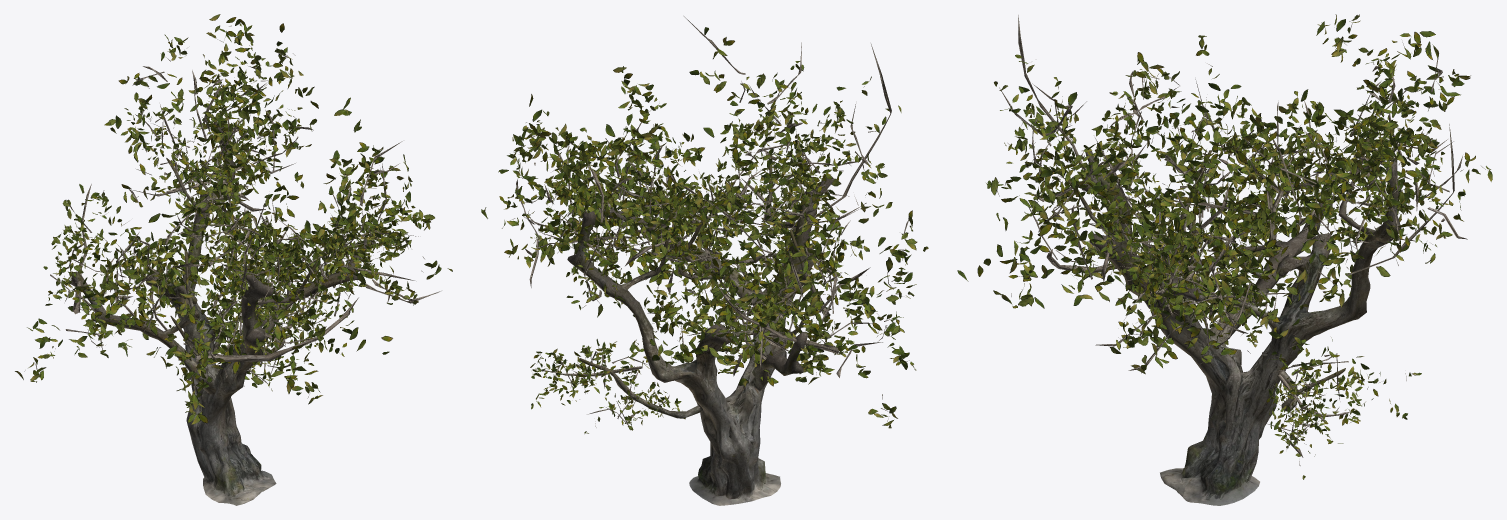
Rendered from island_tree_01.glb.
The picture shows the model from 3 angles, left to right: view 1: azimuth 30°, elevation 25°; view 2: azimuth 150°, elevation 25°; view 3: azimuth 270°, elevation 25°; orthographic projection. The views are drawn at different scales.
Visible parts, largest first — view 1: island_tree_01_LOD0.002, island_tree_01_LOD0.001, island_tree_01_LOD0; view 2: island_tree_01_LOD0.002, island_tree_01_LOD0.001, island_tree_01_LOD0; view 3: island_tree_01_LOD0.002, island_tree_01_LOD0.001, island_tree_01_LOD0.
Part boxes in pixels (x1,y1,x2,y2): island_tree_01_LOD0.002: (15, 14, 452, 424); island_tree_01_LOD0.001: (70, 122, 376, 505); island_tree_01_LOD0: (24, 25, 440, 412); island_tree_01_LOD0.002: (481, 27, 928, 433); island_tree_01_LOD0.001: (567, 154, 834, 505); island_tree_01_LOD0: (510, 16, 909, 430); island_tree_01_LOD0.002: (957, 14, 1492, 479); island_tree_01_LOD0.001: (1068, 139, 1401, 505); island_tree_01_LOD0: (995, 15, 1485, 465).
Size of the model in its own units: 4.69 by 4.93 by 4.8.
Materials: 3 (3 with a texture image).
